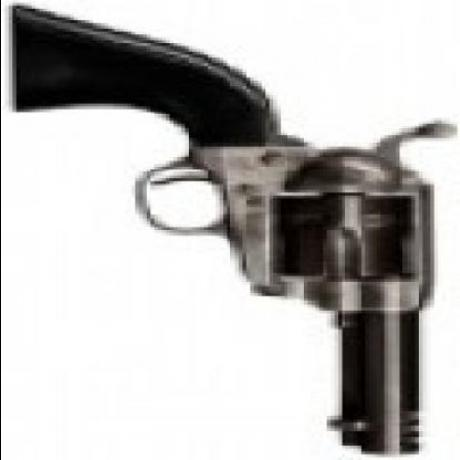weapon: (5, 0, 460, 458)
